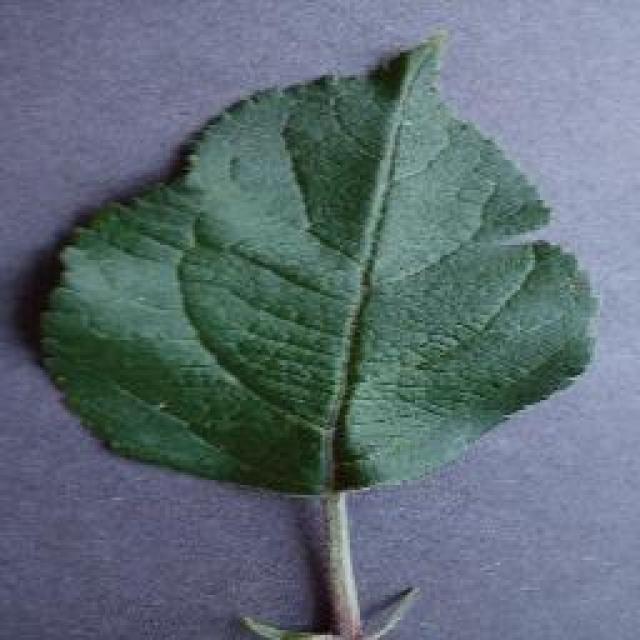apple healthy: (32, 28, 600, 638)
